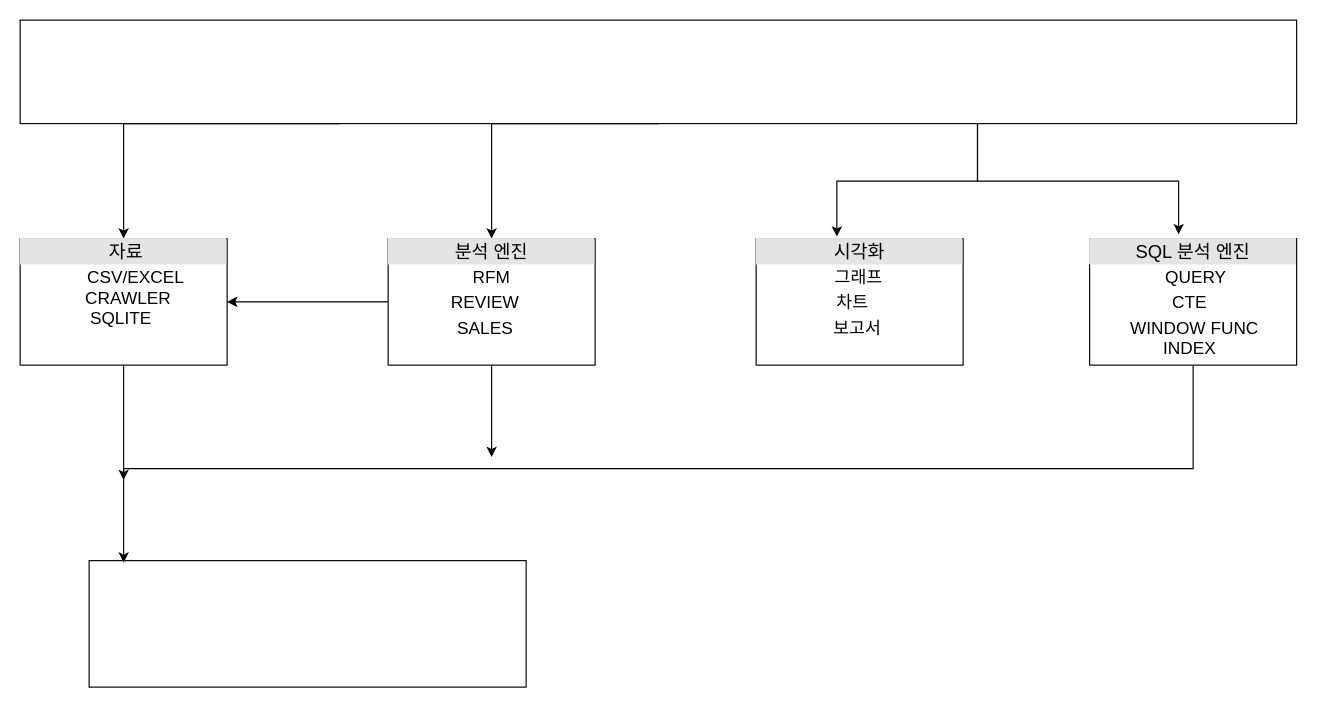
Some shapes in this 1317 by 707 pixel diagram are drawn without their labels. The shapes that lost their labels are listed below. From the top down, each one's box as (x1, y1, x2, y2) in pixels, then its label:
(19, 19, 1297, 124): Streamlit Web Server Data Input / Analysis / Explorer / Export
(88, 559, 526, 687): 외부 서비스 1.OPEN AI GPT-4o-mini 2. Selenium WebDriver 3. Naver Platform (크롤링)
